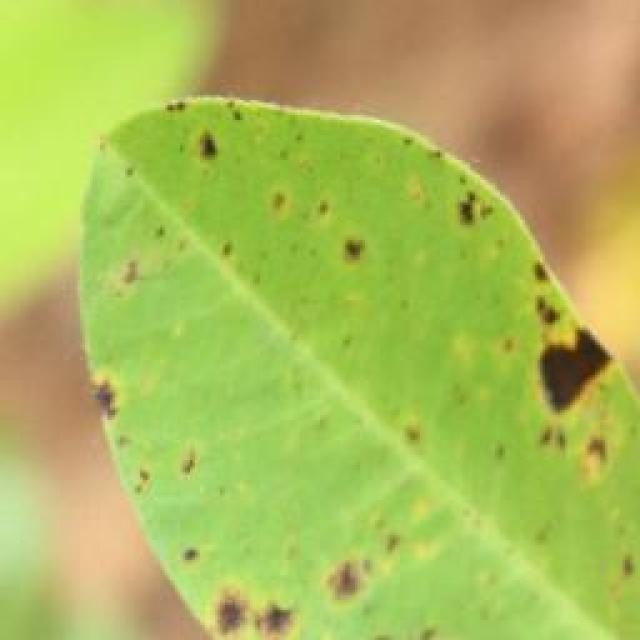Yellowish: (57, 94, 633, 623)
